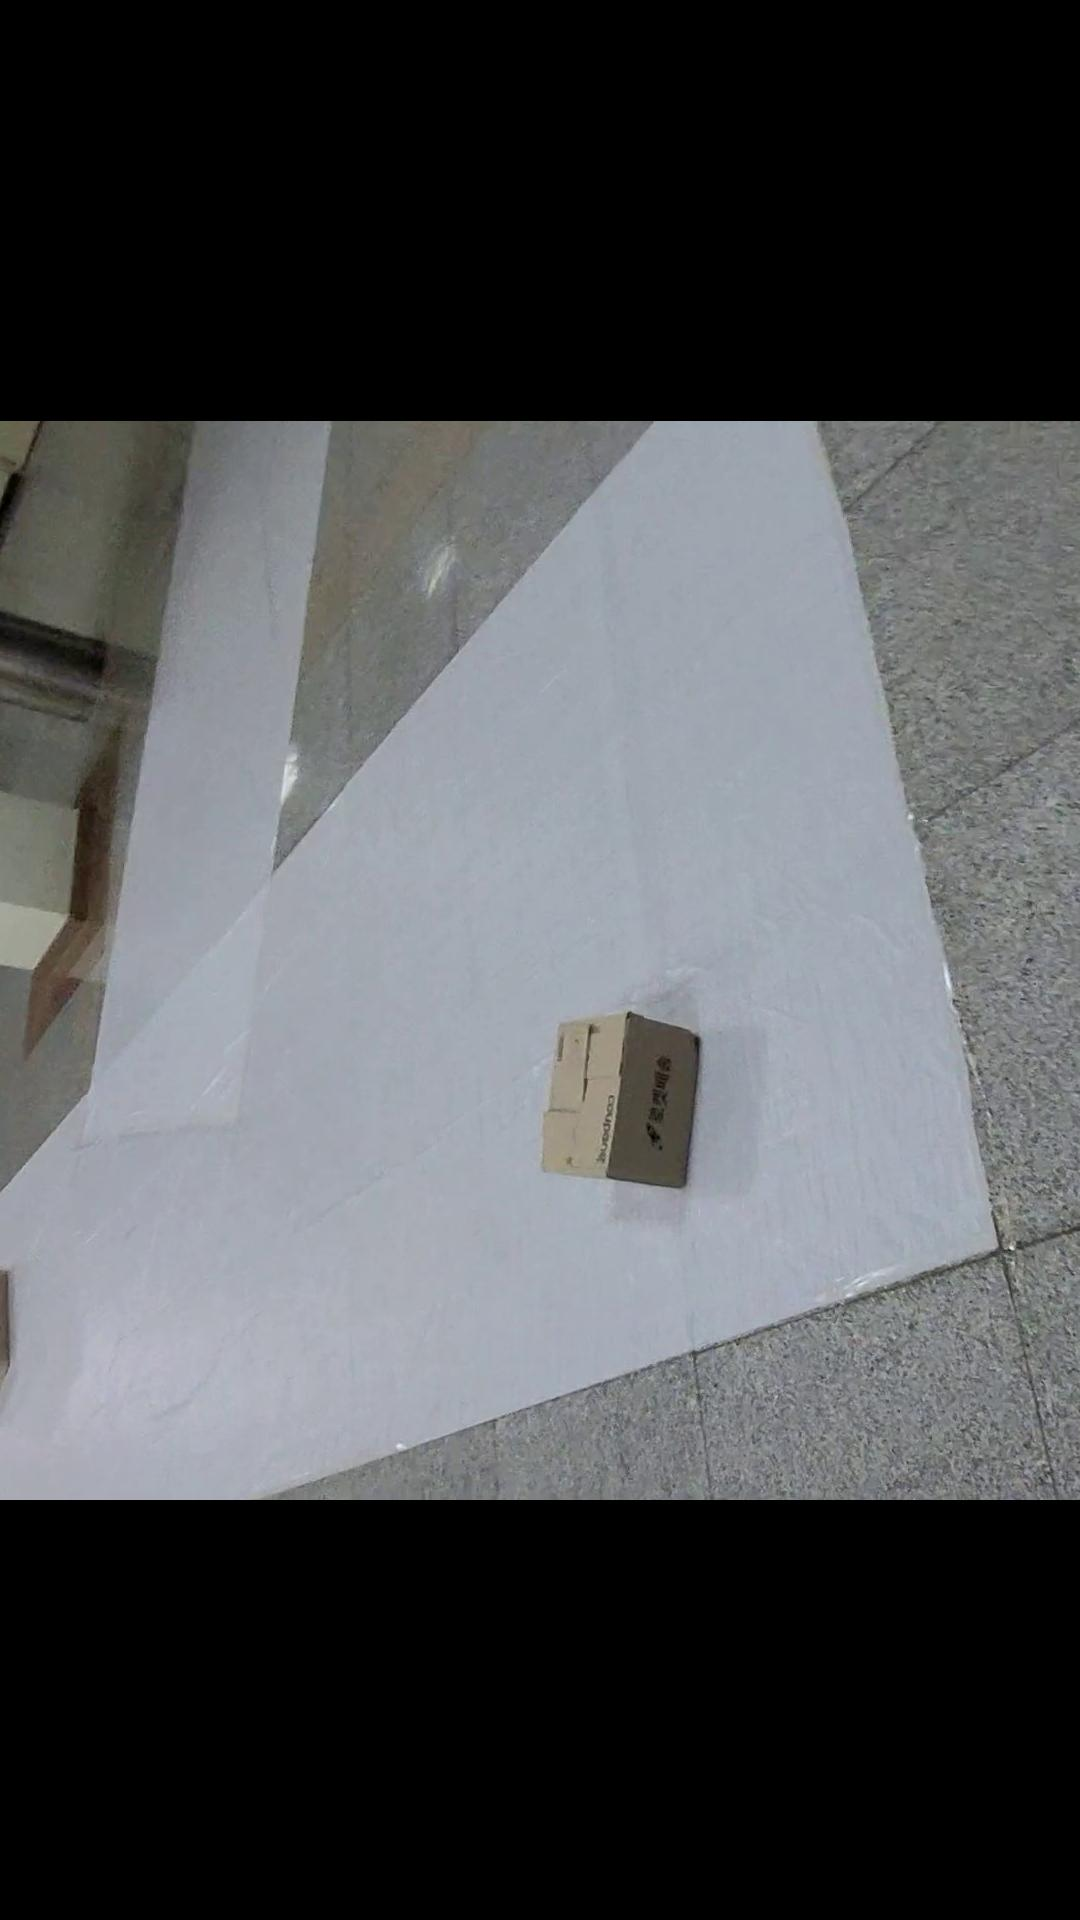Box: (524, 988, 708, 1197)
